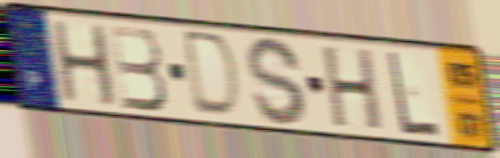B: (107, 23, 171, 114)
D: (183, 27, 244, 123)
H: (49, 19, 120, 110), (321, 44, 385, 135)
L: (384, 48, 443, 139)
S: (244, 33, 310, 129)
